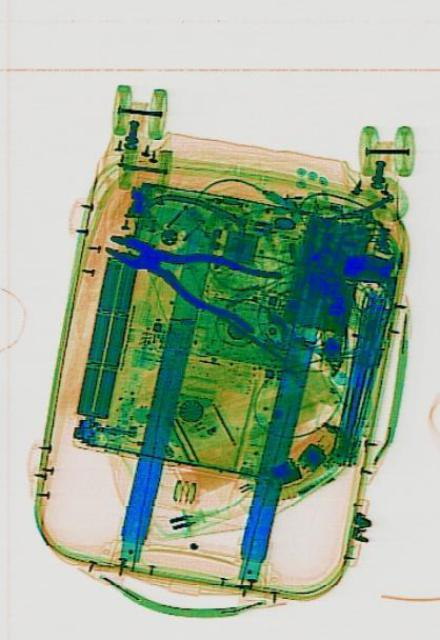Pliers: (97, 205, 281, 339)
